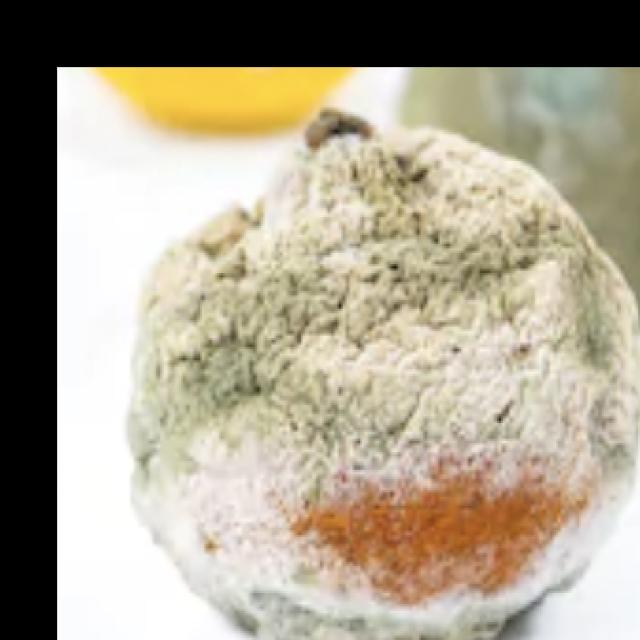sangat-busuk: (127, 109, 639, 639)
